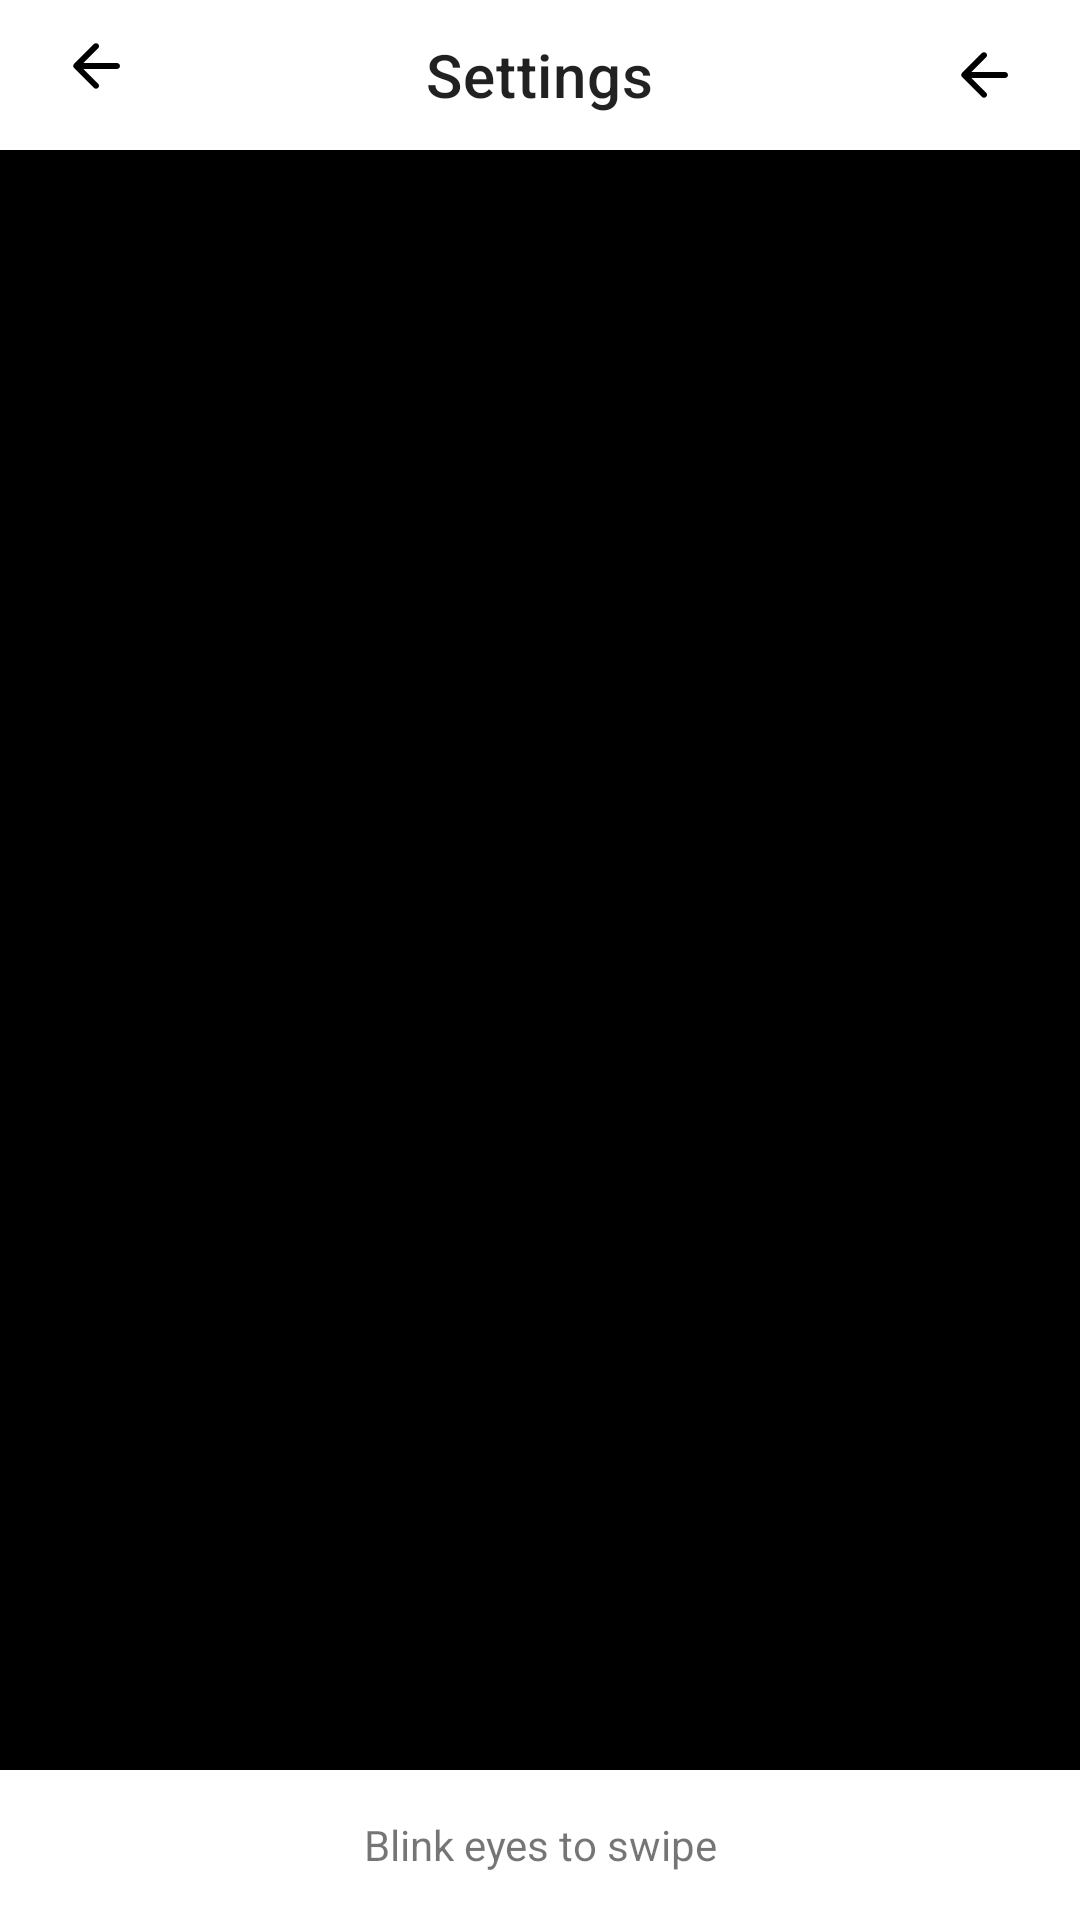

Icons on this 1080 × 1920 Android screen, each with the point to tap as point (x, y):
arrow back: point (96, 66), point (984, 75)
